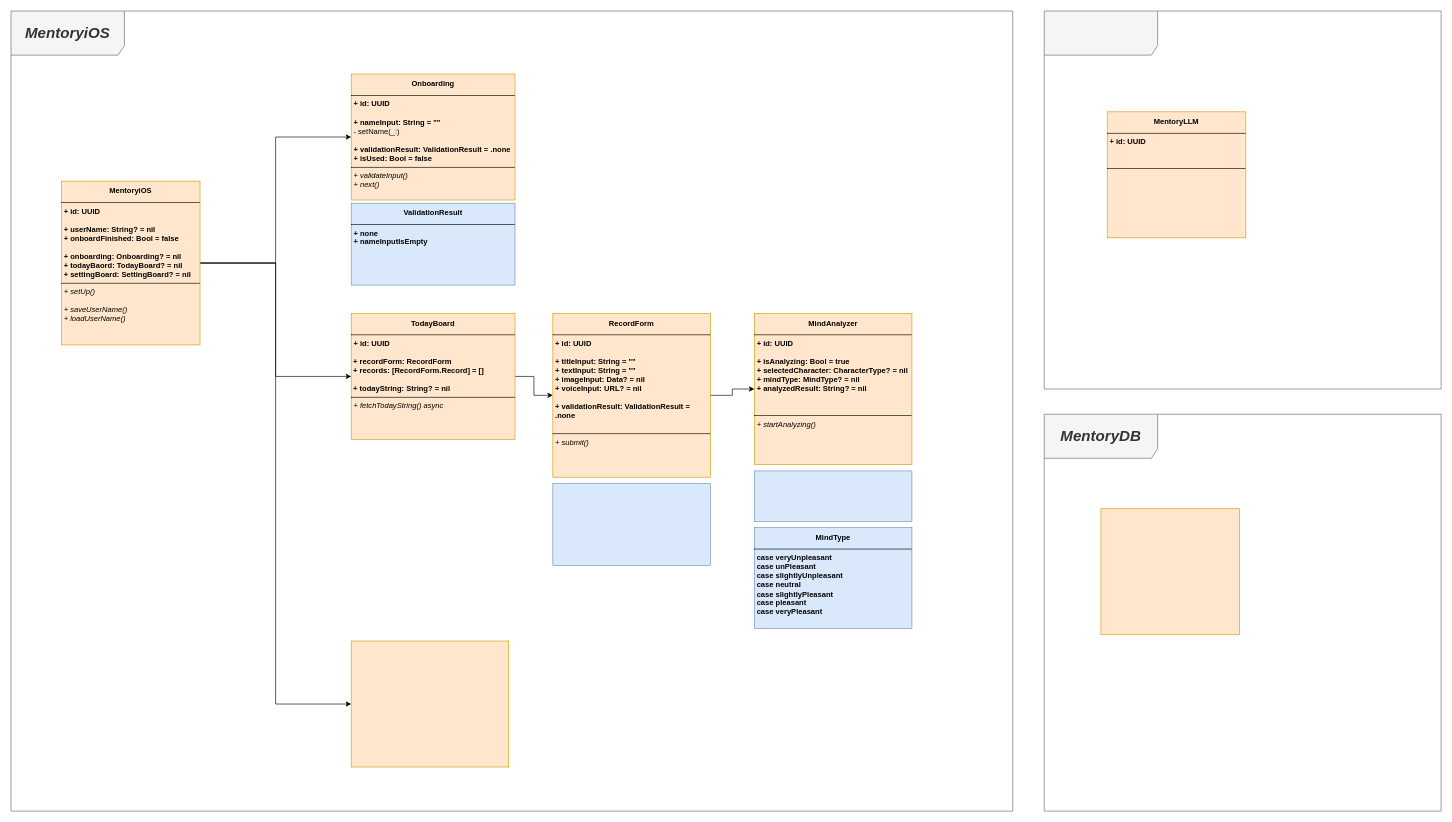
Image size: 1452x822. Some labels were removed from this diagram. The centre of each missing label's shape, as x and y in pixels:
"CharacterType case A, B" goes at (x=833, y=495).
"MentoryDB + id: UUID + userName: String? = nil" goes at (x=1170, y=571).
"MentoryLLM" goes at (x=1242, y=199).
"SettingBoard + id: UUID +" goes at (x=430, y=703).
"ValidationResult case none case titleInputIsEmpty case contentsInputIsEmpty" goes at (x=631, y=524).
